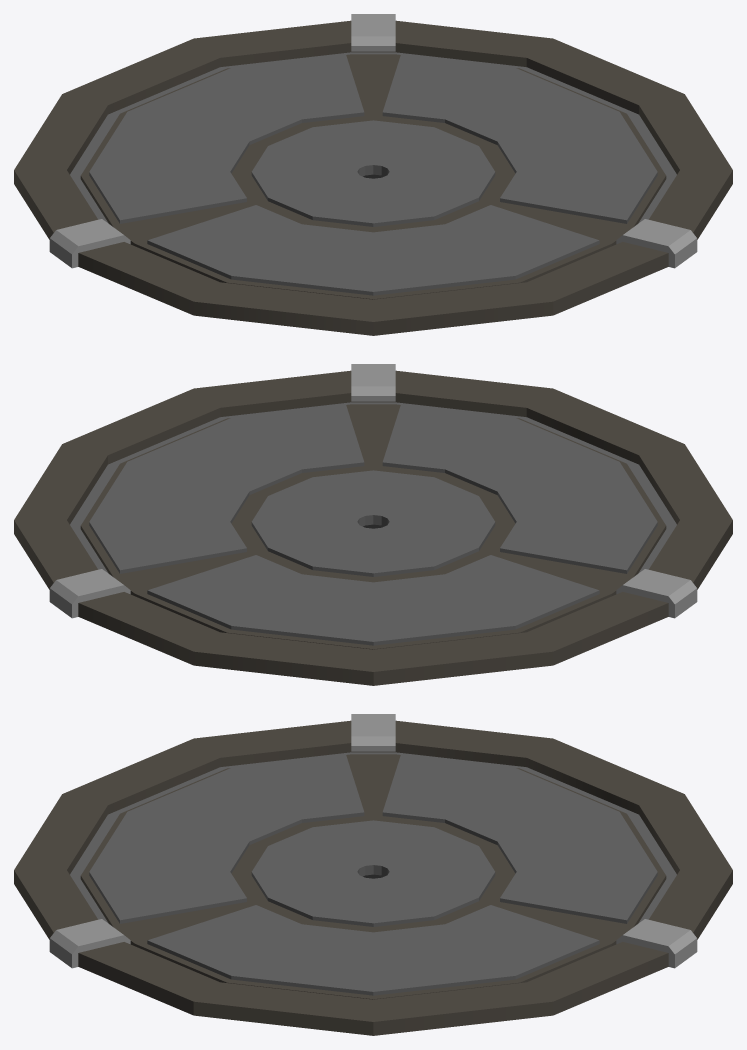
File: Manhole.FBX
3 renders of one model, top to bottom at view 1: azimuth 30°, elevation 25°; view 2: azimuth 150°, elevation 25°; view 3: azimuth 270°, elevation 25°, orthographic.
Parts seen in each view (by area): view 1: Manhole_LOD0; view 2: Manhole_LOD0; view 3: Manhole_LOD0.
Boxes of the visible parts, box(x1,y1,x2,y2) form: Manhole_LOD0: box(14, 14, 732, 335); Manhole_LOD0: box(14, 364, 732, 685); Manhole_LOD0: box(14, 714, 732, 1035).
Size of what is drawn, in the model's own units: 70.53 by 2.22 by 70.39.
